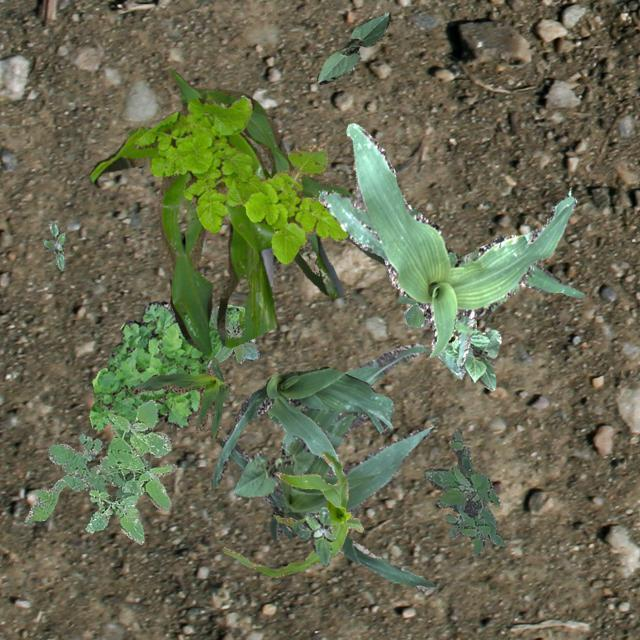crop: (88, 68, 384, 354), (318, 122, 576, 356), (218, 342, 434, 590), (210, 366, 393, 488), (220, 451, 362, 576), (456, 262, 584, 366), (130, 356, 230, 438), (316, 12, 390, 84), (232, 438, 314, 496), (436, 318, 501, 389), (396, 294, 424, 326)
weed: (134, 95, 346, 262), (88, 300, 245, 430), (84, 398, 176, 544), (24, 432, 148, 522), (422, 426, 503, 554), (206, 304, 258, 366), (290, 506, 334, 564), (42, 220, 66, 268)
